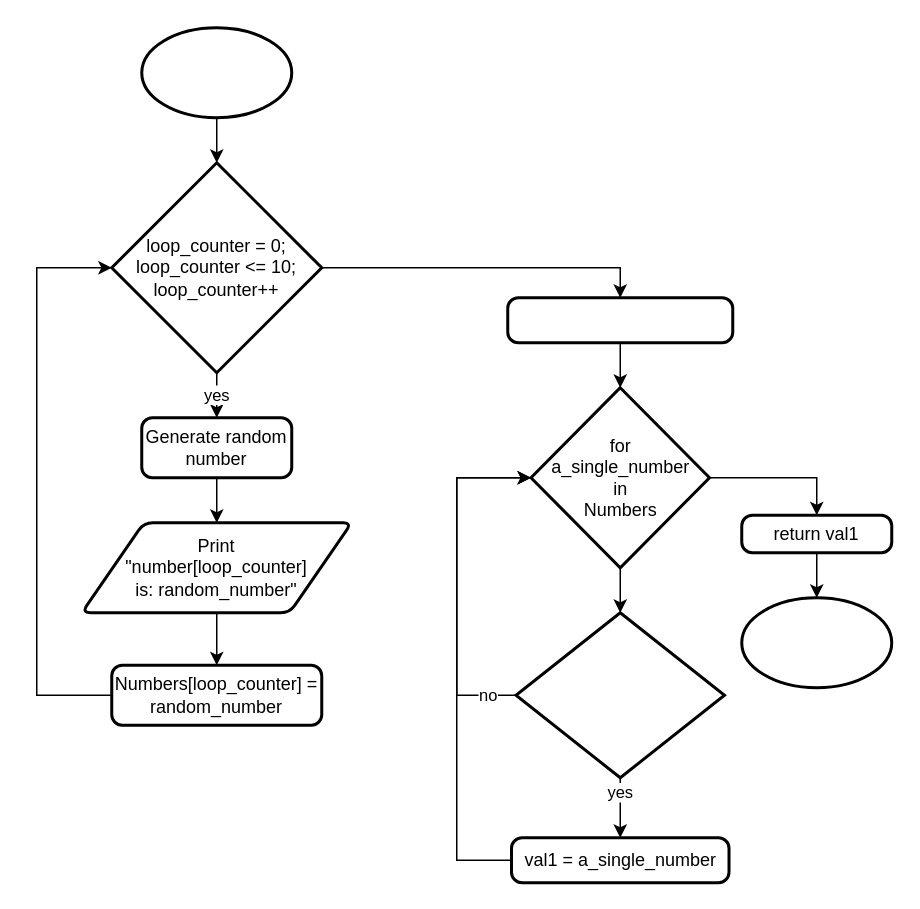
Some shapes in this 920 by 909 pixel diagram are drawn without their labels. Here are the shapes that lost their labels. From the top down, the box of each, then its label:
(140, 26, 292, 118): start
(506, 296, 734, 344): val1 = numbers[0]
(740, 596, 892, 688): stop
(514, 610, 725, 778): If val1 > a_single_number
